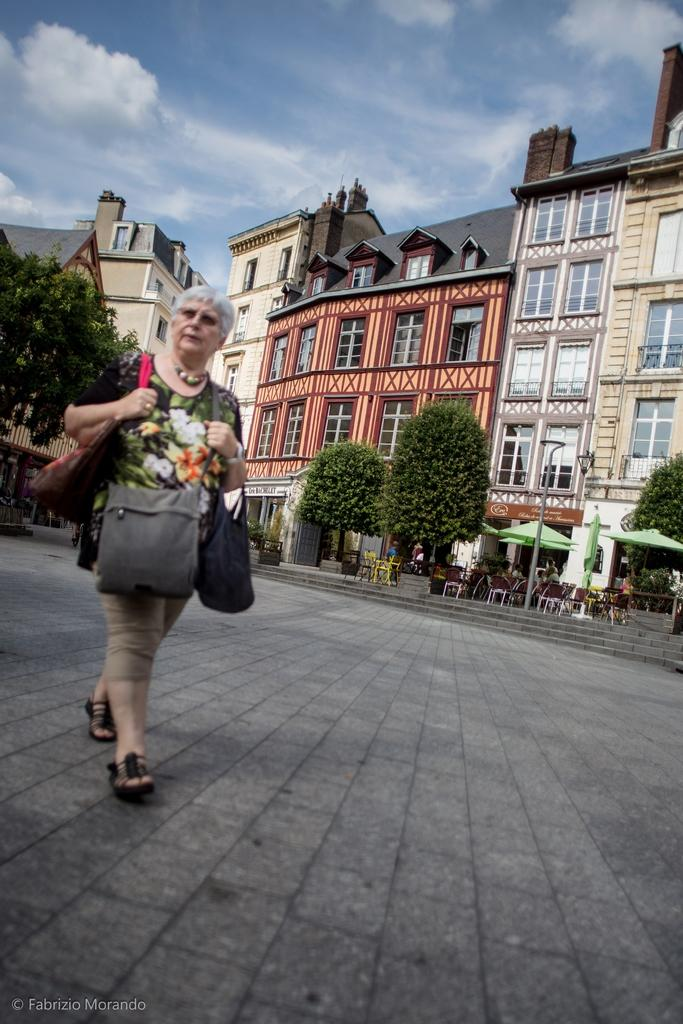Luggage-and-bags: (17, 345, 167, 524), (71, 468, 222, 632), (195, 455, 255, 612)
